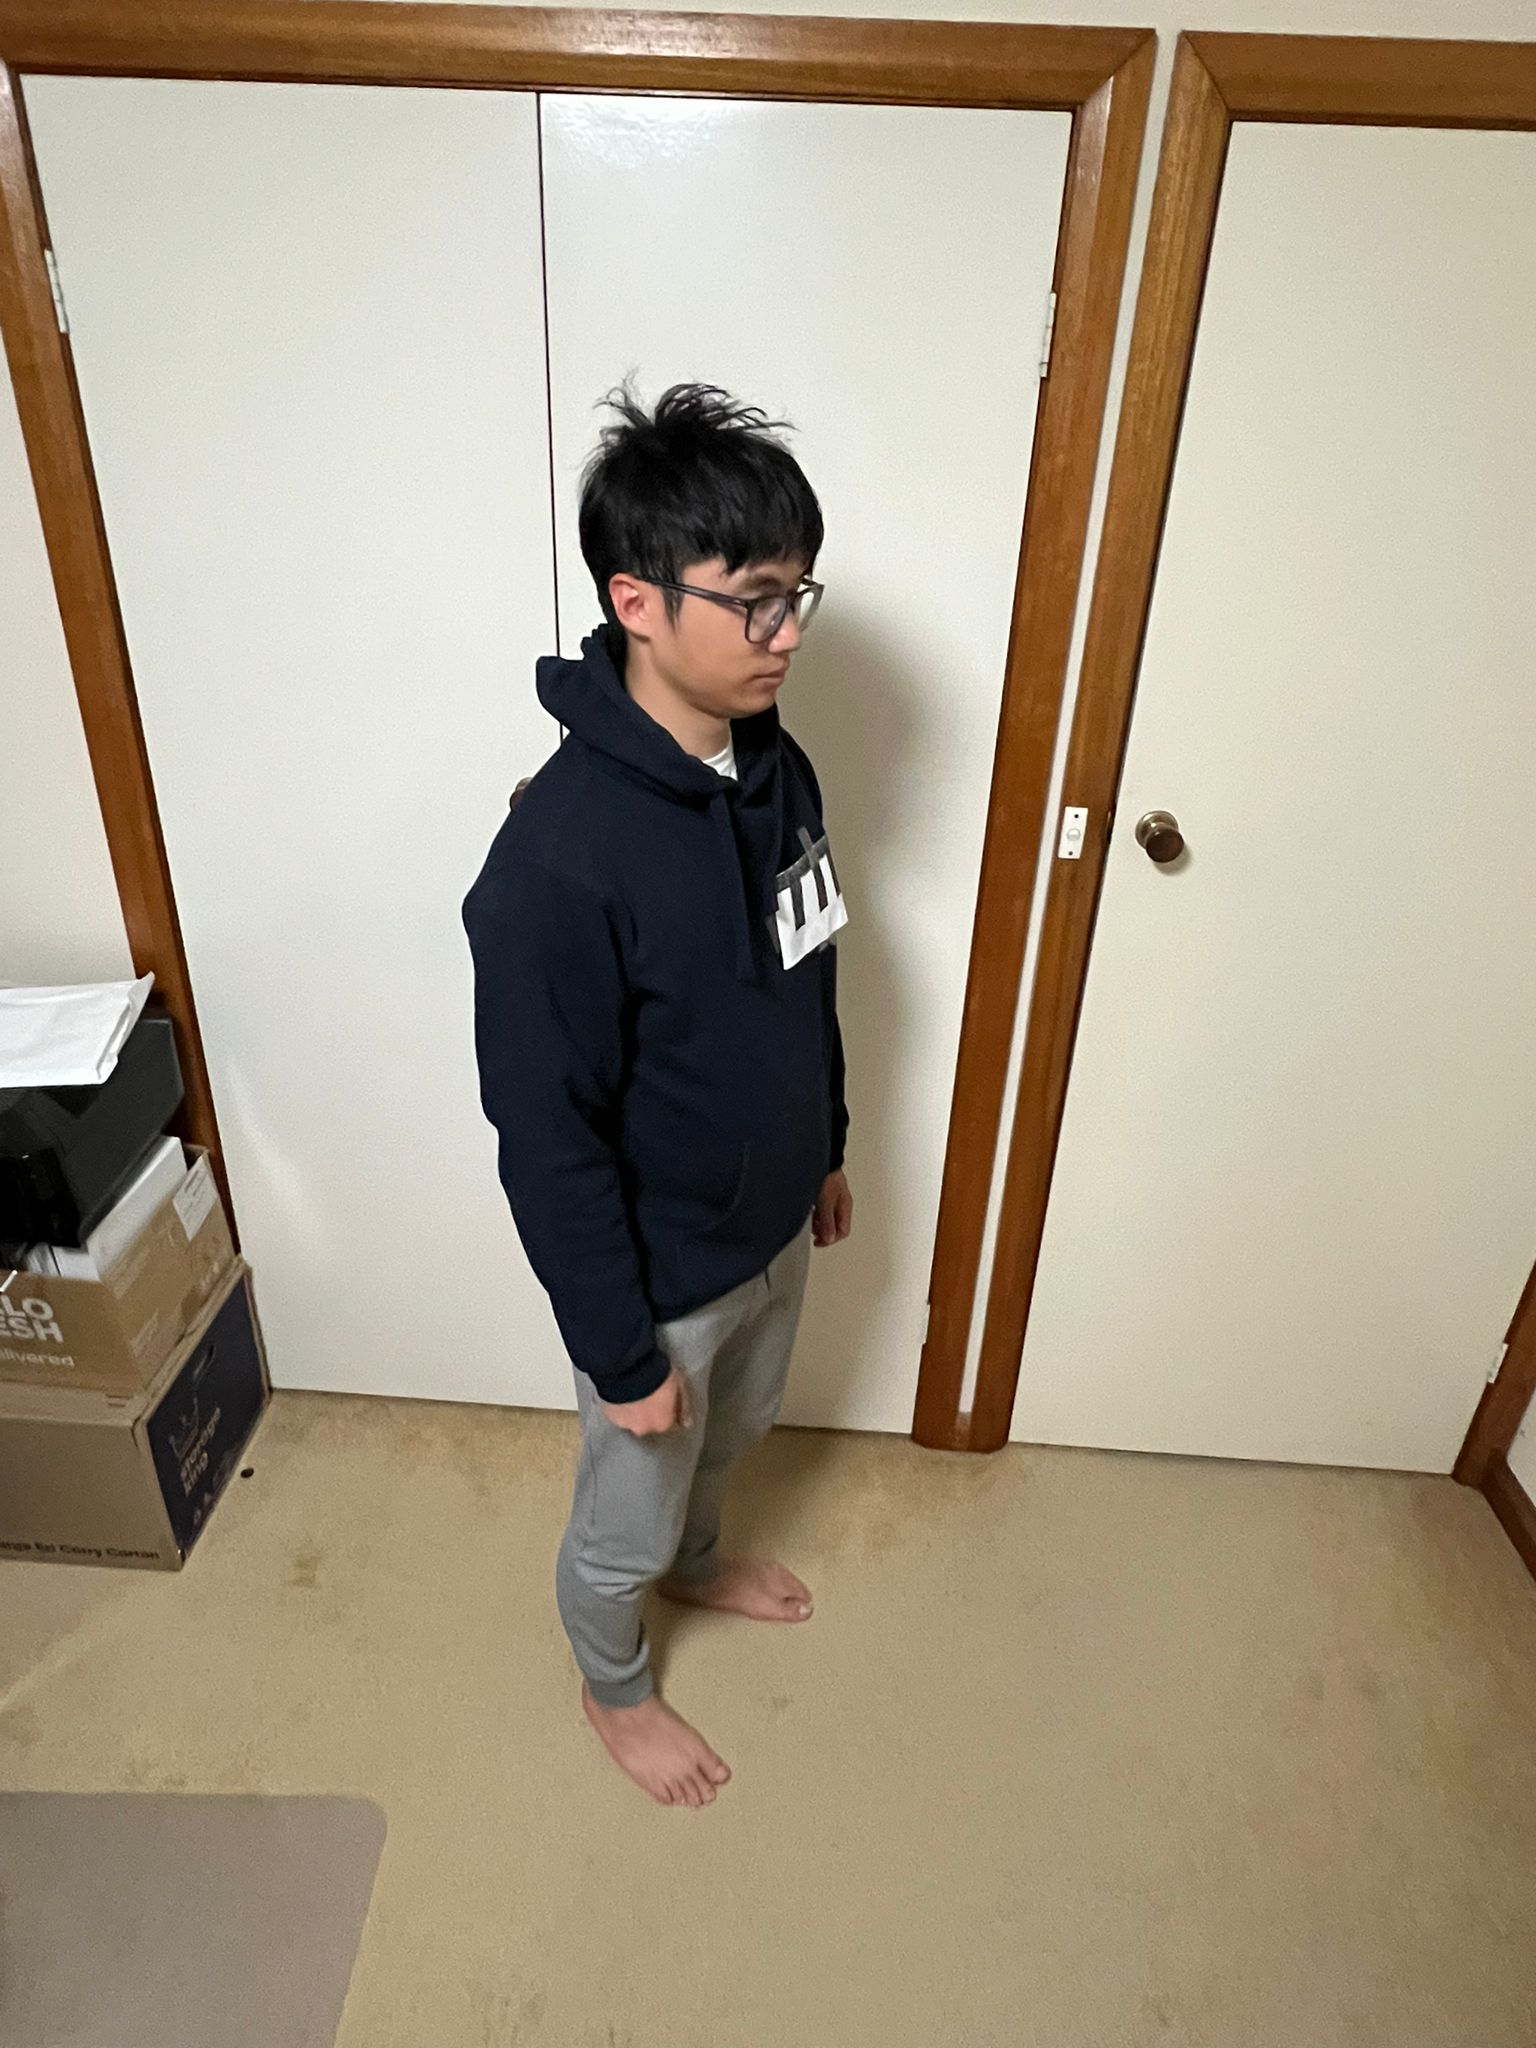Staff: (450, 368, 860, 1804)
